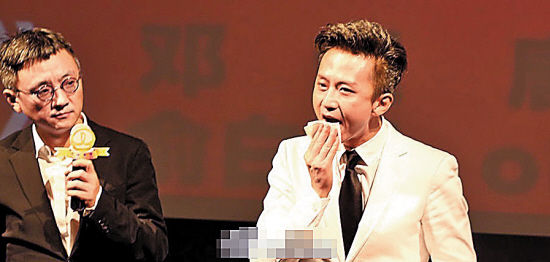face: (312, 48, 375, 142), (19, 55, 83, 132)
